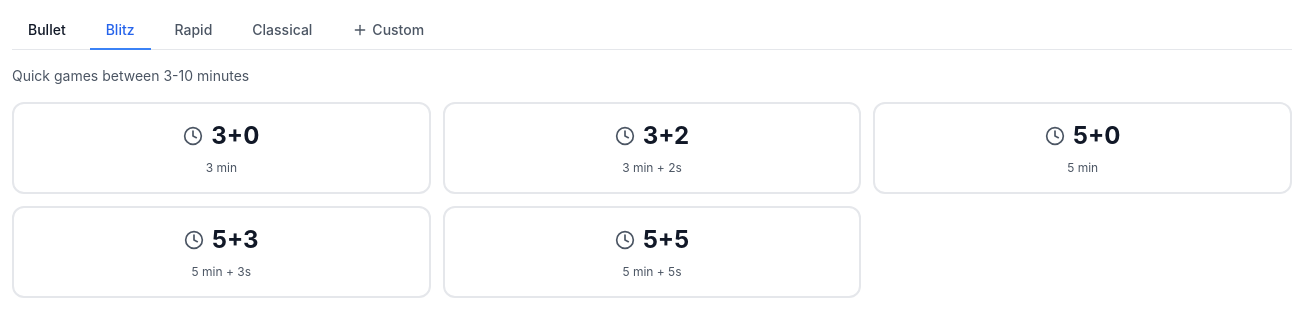
Test: TimeControlSelector › Custom Time Controls (Requirement 5.5) › should show error for invalid base time (too low)
This screenshot has width=1304, height=333.
Click the button with test id "category-tab-custom" at (388,31), box [336,12,440,50]
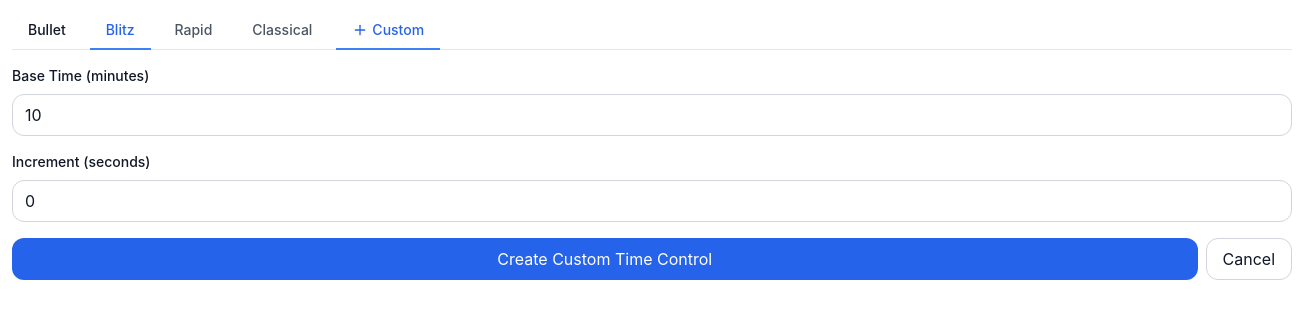
Replace the text in the number field with test id "custom-base-time-input" with "0.25" at (652,115), box [12,94,1292,136]
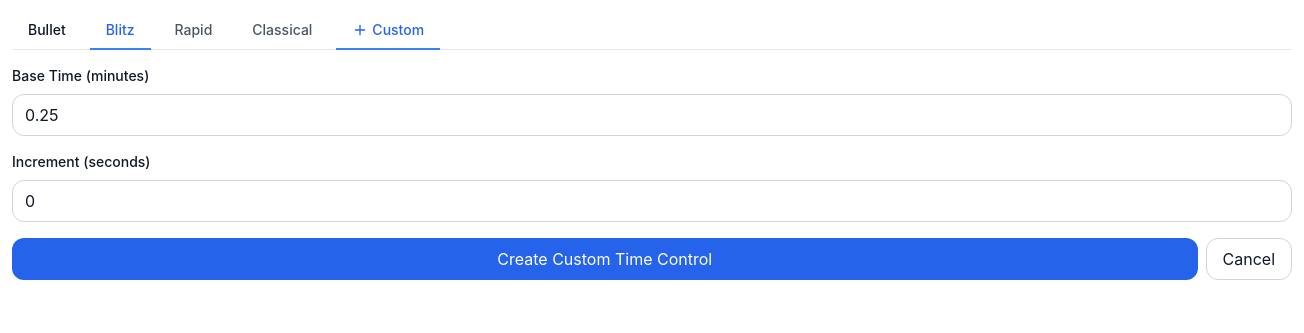
Click the button with test id "custom-submit-button" at (605,259), box [12,238,1198,280]
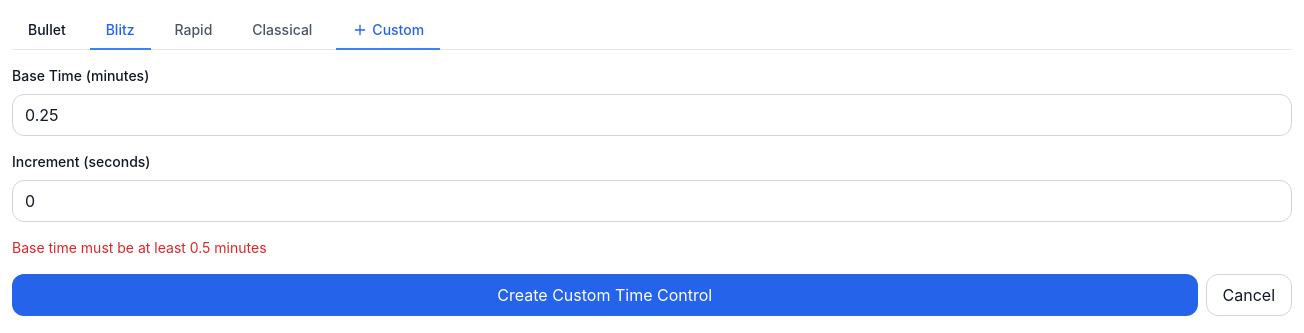
Check: the text "Base time must be at least 0.5 minutes" is shown, box [12,239,267,256]
